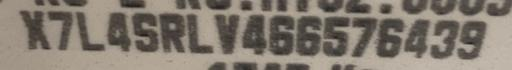letter: (13, 7, 47, 49), (320, 13, 352, 55), (293, 14, 325, 56), (374, 18, 406, 60), (211, 13, 243, 53), (348, 15, 380, 55), (431, 16, 463, 56), (45, 8, 75, 50), (266, 13, 296, 55), (402, 16, 432, 58), (458, 17, 488, 59), (74, 12, 104, 52), (240, 13, 268, 55), (129, 13, 159, 52), (158, 12, 186, 51), (185, 13, 211, 53), (104, 12, 128, 54)
